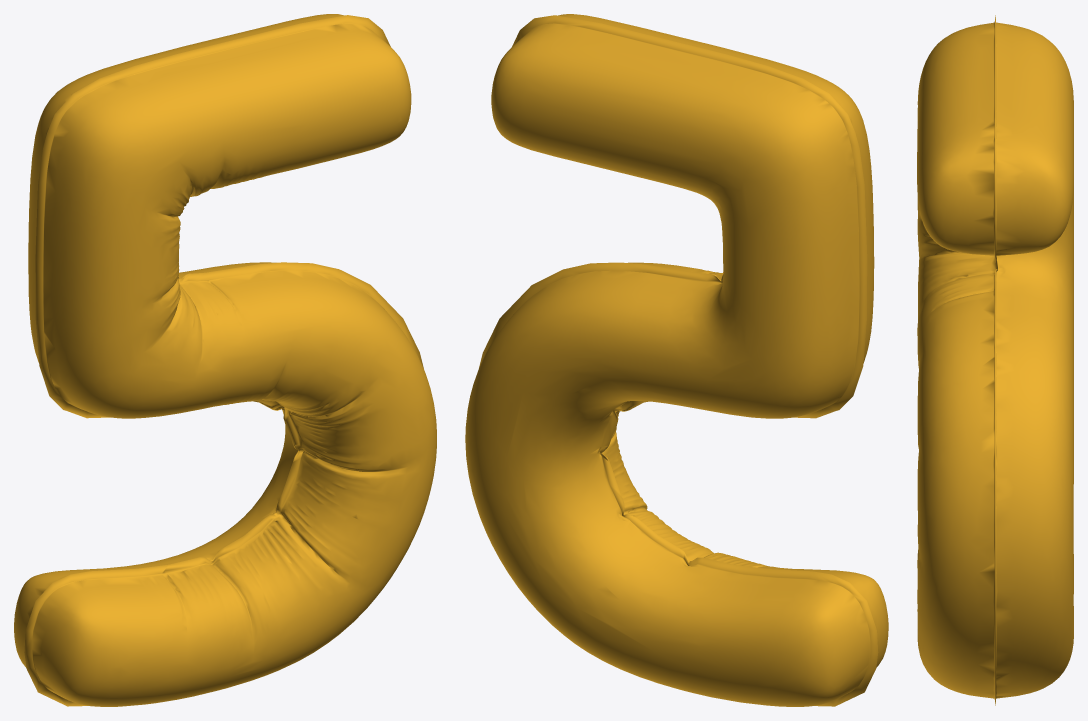
File: zahlen-gold-nr5-gruppe.glb
The picture shows the model from 3 angles, left to right: view 1: azimuth 30°, elevation 25°; view 2: azimuth 150°, elevation 25°; view 3: azimuth 270°, elevation 25°; orthographic projection. The views are drawn at different scales.
Visible parts, largest first — view 1: nr5; view 2: nr5; view 3: nr5.
Part boxes in pixels (x1=…): nr5: x1=14, y1=14, x2=436, y2=706; nr5: x1=465, y1=14, x2=888, y2=706; nr5: x1=917, y1=15, x2=1073, y2=705.
Size of the model in its own units: 0.4078 by 0.6147 by 0.1414.
